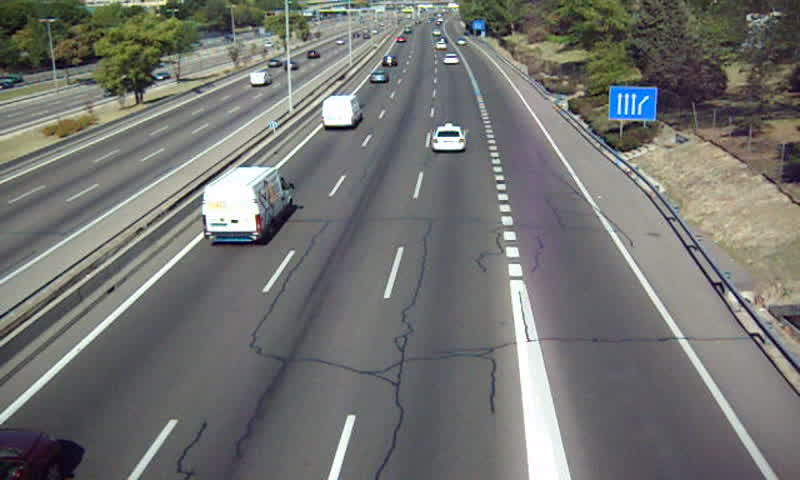car: (432, 125, 466, 153), (368, 71, 388, 86), (442, 54, 460, 67), (382, 54, 397, 69)
van: (203, 167, 295, 244), (321, 95, 362, 128)
